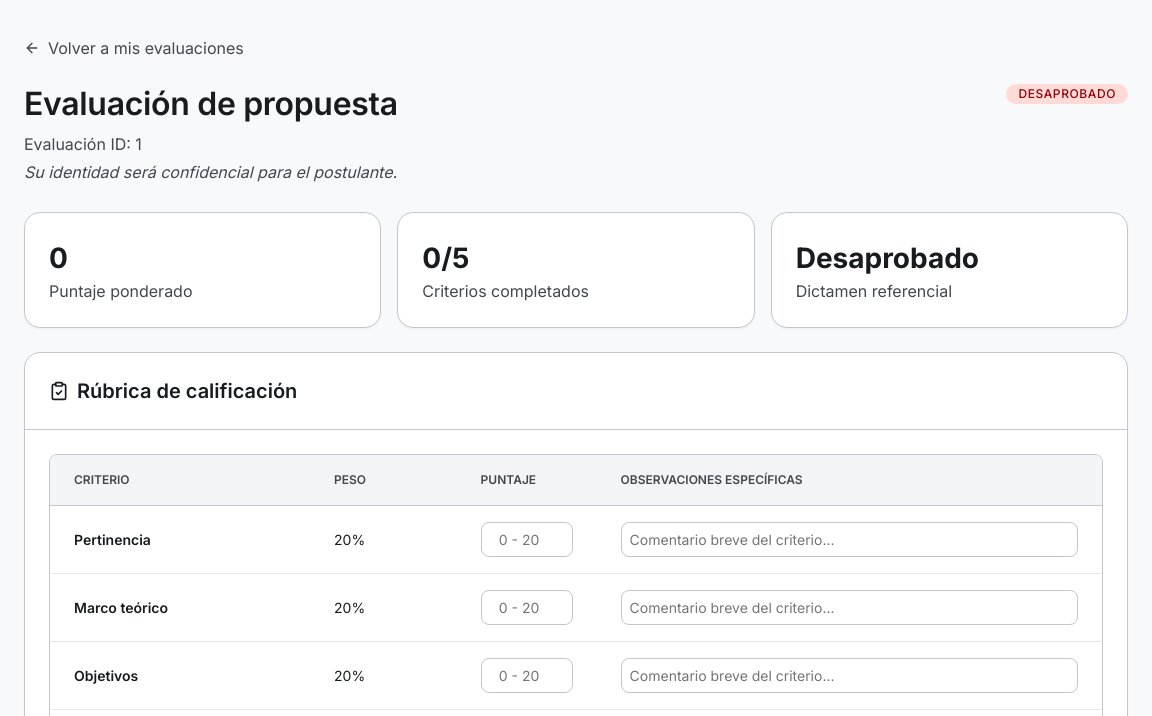
Scenario: EvaluationForm › calculates verdict on score change to APROBADO
Type "14" into the number field with placeholder "0 - 20" in the row of "Pertinencia".
click(527, 540); type("14")  # box top-left (481, 522), bottom-right (573, 557)
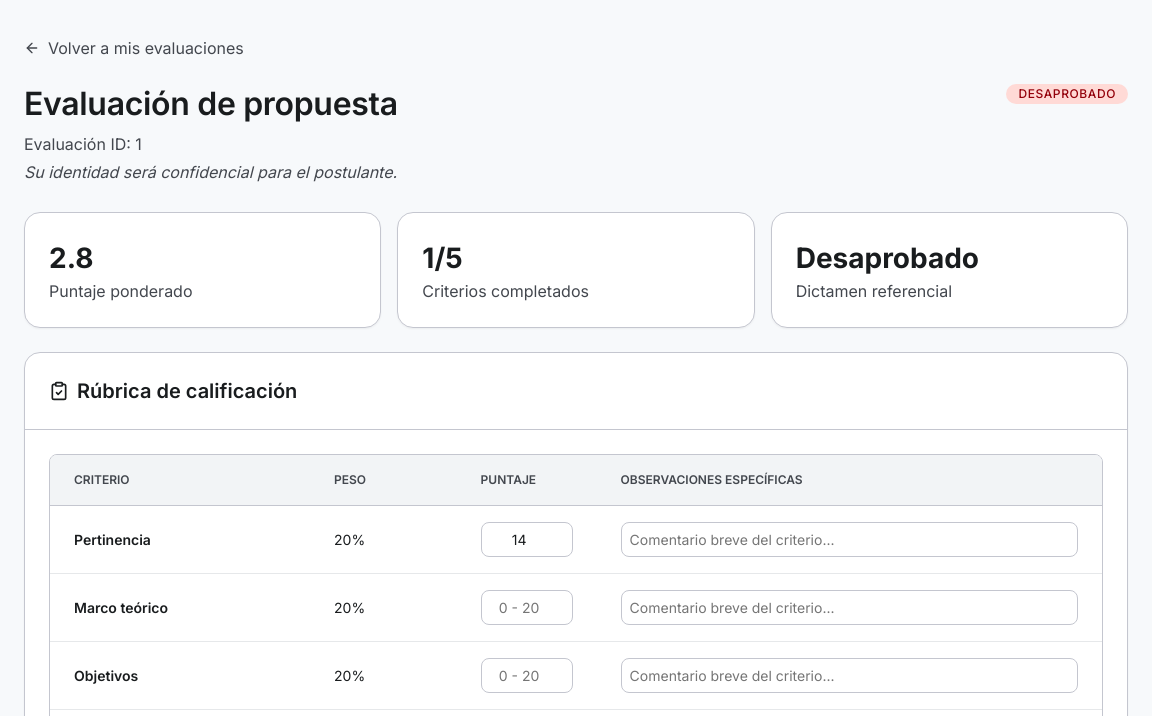
Type "14" into the number field with placeholder "0 - 20" in the row of "Marco teórico".
click(527, 608); type("14")  # box top-left (481, 590), bottom-right (573, 625)
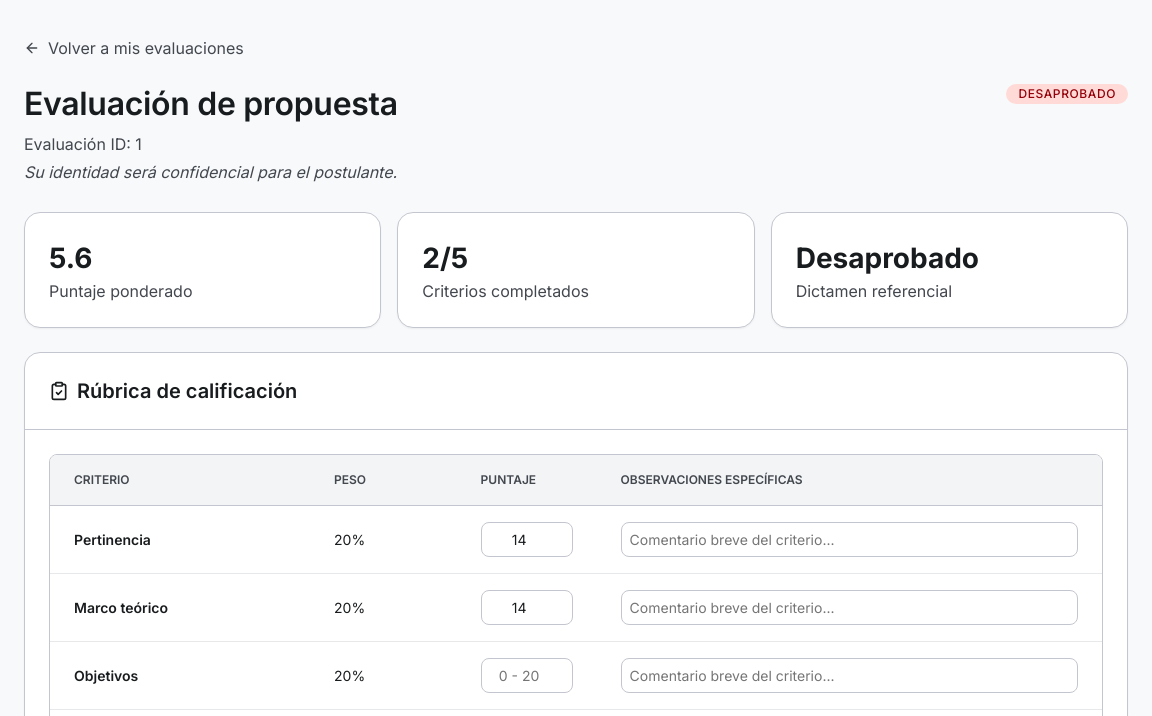
Type "14" into the number field with placeholder "0 - 20" in the row of "Objetivos".
click(527, 676); type("14")  # box top-left (481, 658), bottom-right (573, 693)
(page scrolled)
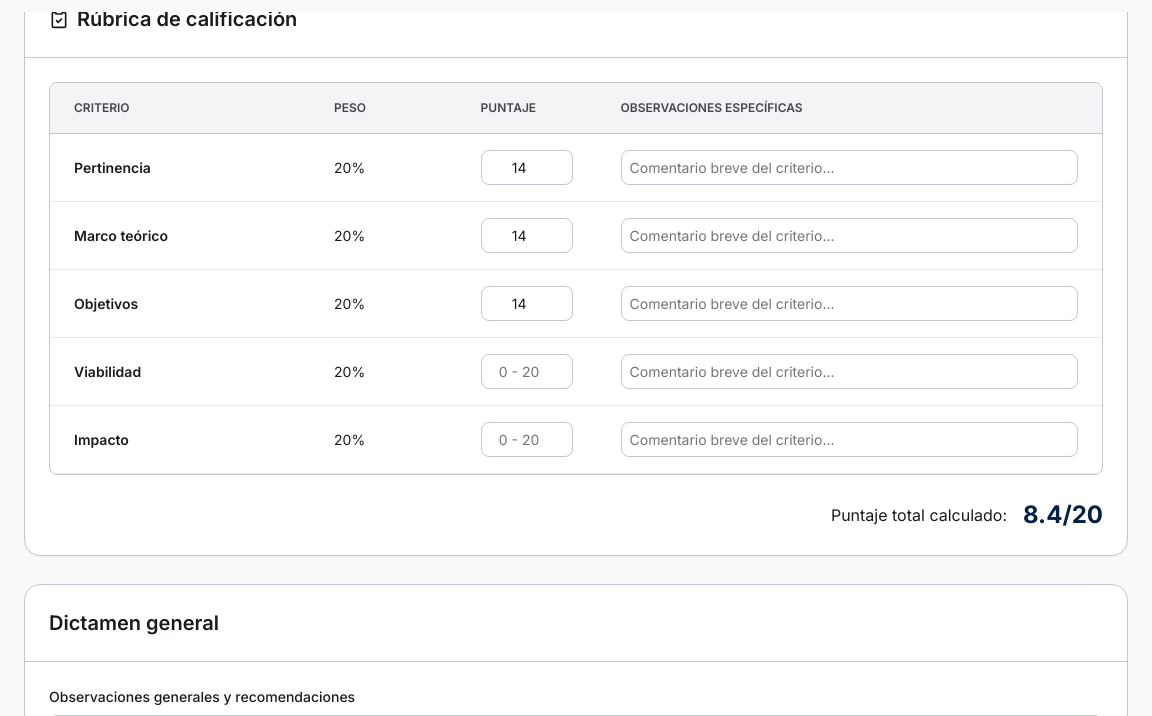
Type "14" into the number field with placeholder "0 - 20" in the row of "Viabilidad".
click(527, 372); type("14")  # box top-left (481, 354), bottom-right (573, 389)
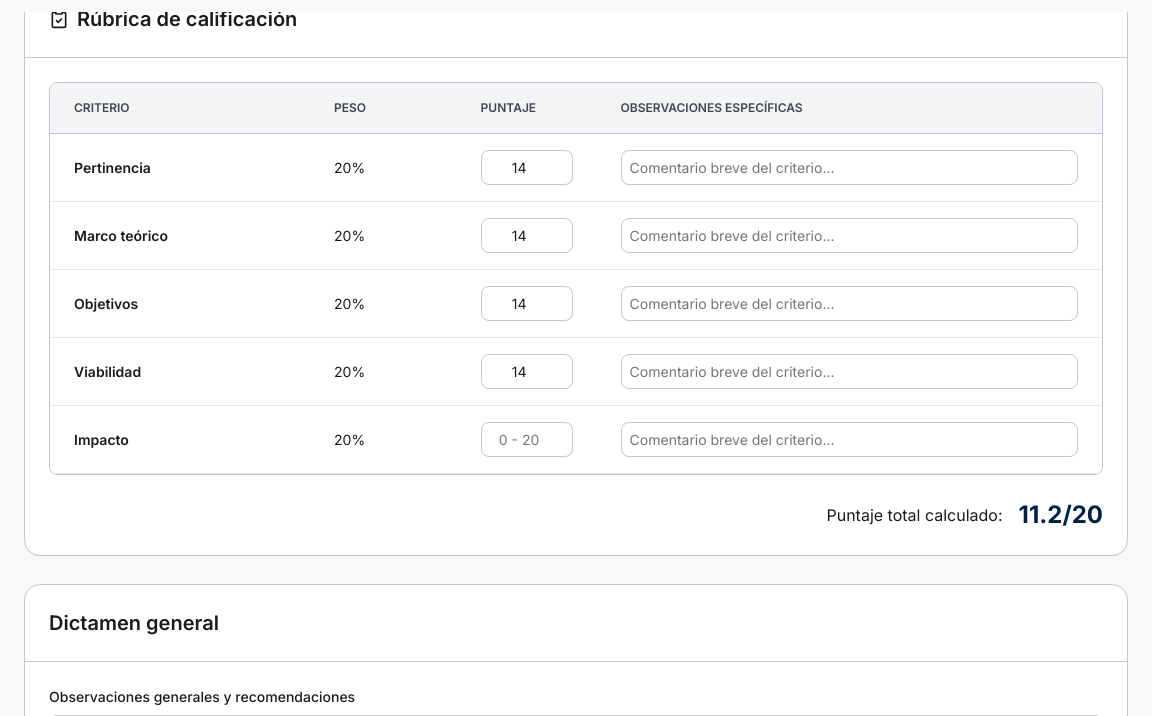
Type "14" into the number field with placeholder "0 - 20".
click(527, 440); type("14")  # box top-left (481, 422), bottom-right (573, 457)
(page scrolled)
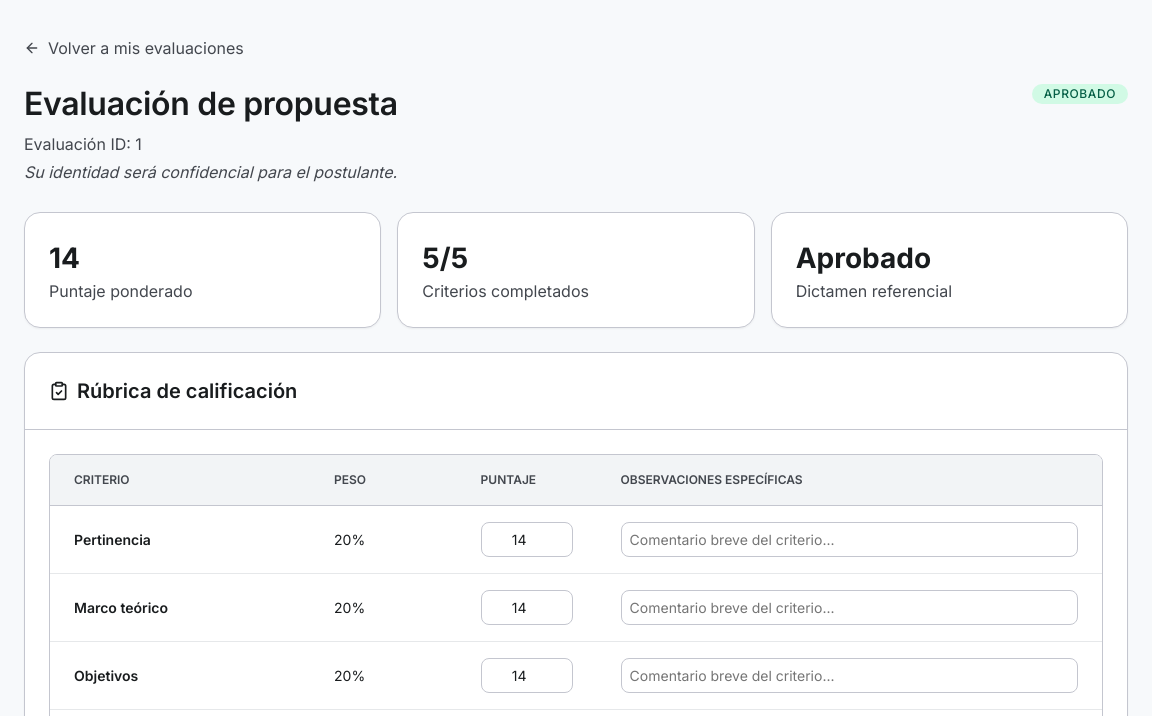
expect the text "Aprobado" in the row of "Evaluación de propuesta" is shown: met, box top-left (1044, 86), bottom-right (1116, 101)
